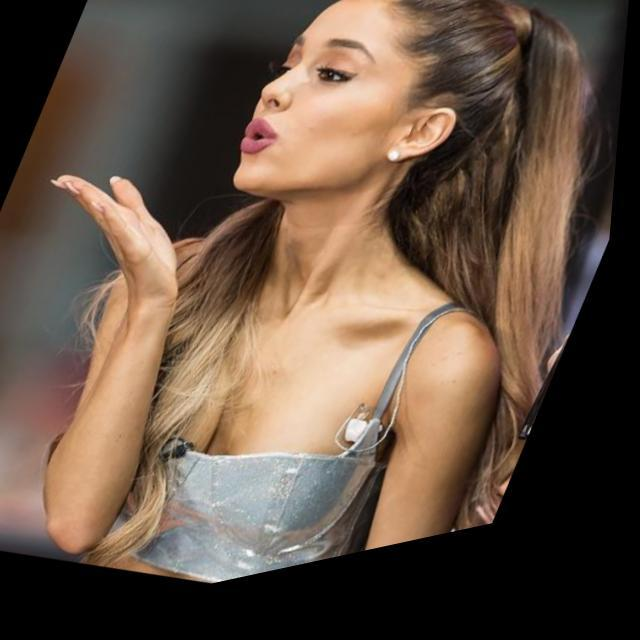Nonhelmet: (229, 0, 415, 198)
